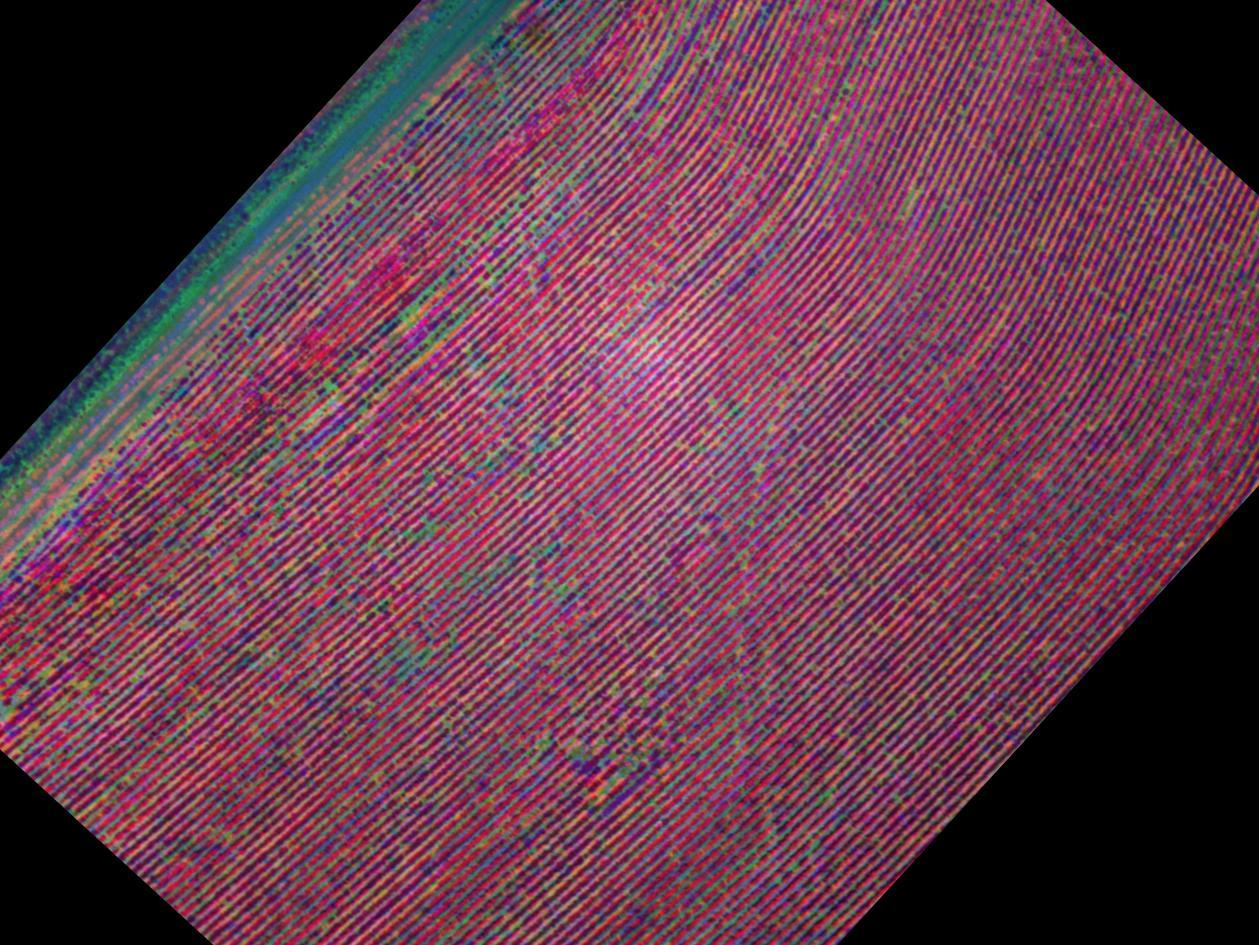dc: (484, 166, 577, 252), (384, 259, 459, 353), (565, 720, 647, 789), (369, 632, 441, 696), (302, 349, 365, 422)
